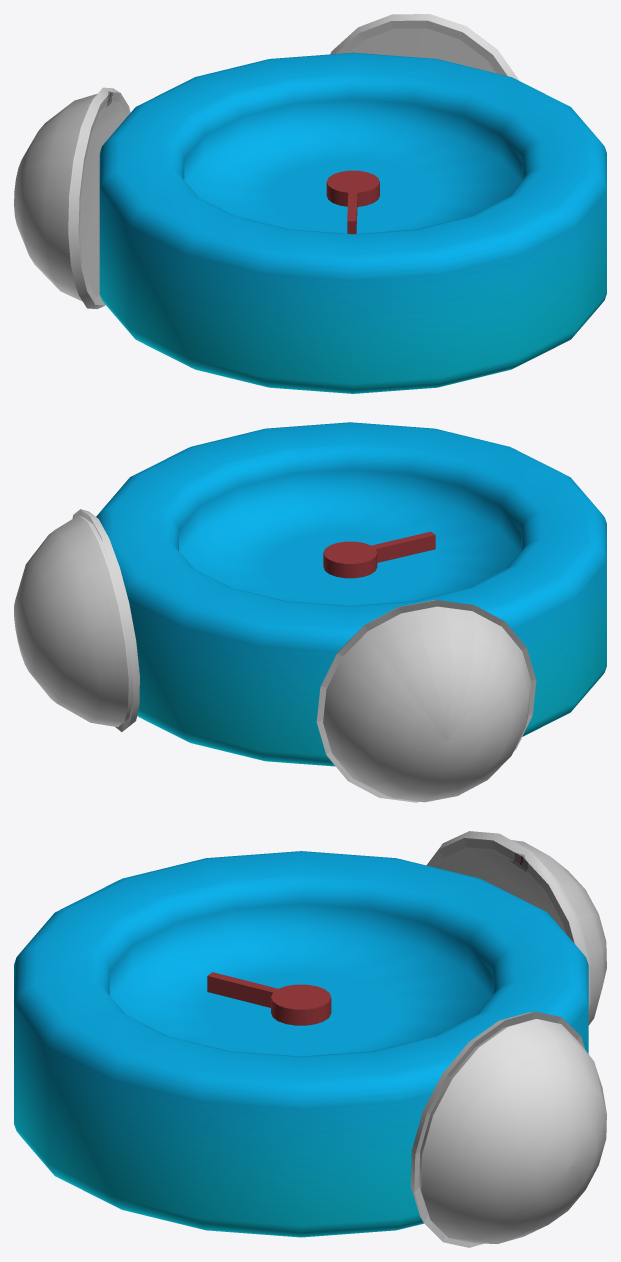
File: clock.fbx
3 views of the same model, one above another, from view 1: azimuth 30°, elevation 25°; view 2: azimuth 150°, elevation 25°; view 3: azimuth 270°, elevation 25° (orthographic). The views are drawn at different scales.
Parts seen in each view (by area): view 1: sz; view 2: sz; view 3: sz.
Part boxes in pixels (x1,y1,x2,y2): sz: (14,14,606,393); sz: (14,422,606,802); sz: (14,831,606,1247).
Size of the model in its own units: 10.62 by 4.29 by 9.98.
